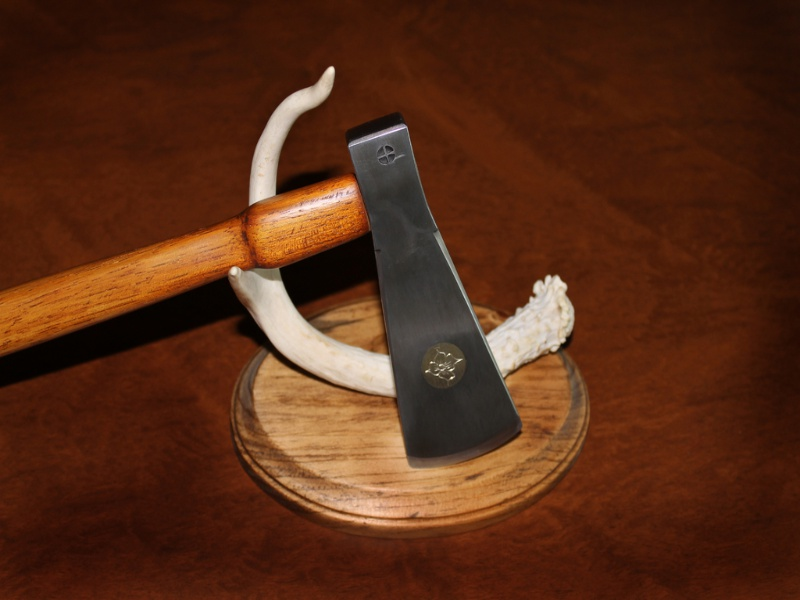axe: (150, 109, 530, 473)
